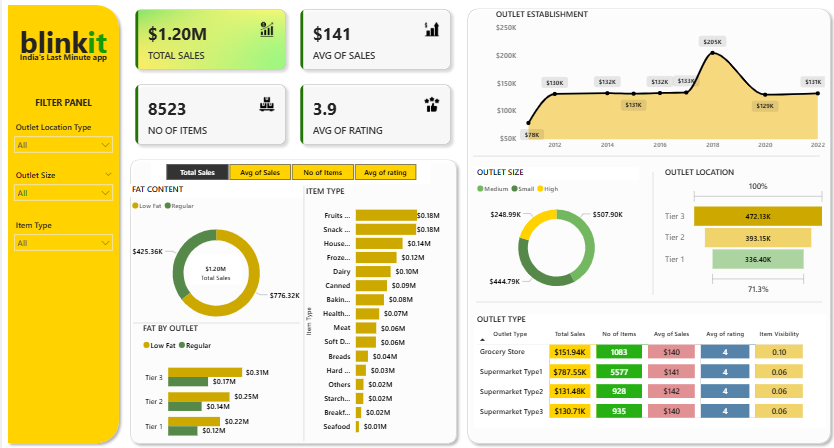

Layout of this report page (visuals, bound fields, positions):
{"tool":"powerbi","page":{"name":"Page 1","canvas":[1400,900],"ordinal":0},"visuals":[{"type":"shape","box":[0,43.2,204.8,750.4],"z":0},{"type":"textbox","box":[20.8,126.4,164.8,28.8],"z":1000},{"type":"textbox","box":[20.8,76.8,164.8,123.2],"z":2000},{"type":"cardVisual","fields":{"Data":["BlinkIT Grocery Data.Total Sales","BlinkIT Grocery Data.Avg of Sales","BlinkIT Grocery Data.No of Items","BlinkIT Grocery Data.Avg of rating"]},"box":[205,43.3,561.7,261.7],"z":3000},{"type":"shape","box":[205,301.7,561.7,491.7],"z":4000},{"type":"donutChart","title":"FAT CONTENT","fields":{"Y":["BlinkIT Grocery Data.Total Sales"],"Category":["BlinkIT Grocery Data.Item Fat Content"]},"box":[212.3,352.3,290.8,252.3],"z":5000},{"type":"slicer","fields":{"Values":["Metrics.Metrics"]},"box":[247.7,312.3,466.2,40],"z":6000},{"type":"cardVisual","fields":{"Data":["BlinkIT Grocery Data.Total Sales"]},"box":[313.8,467.7,86.2,50.8],"z":7000},{"type":"clusteredBarChart","title":"FAT BY OUTLET","fields":{"Y":["BlinkIT Grocery Data.Total Sales"],"Category":["BlinkIT Grocery Data.Outlet Location Type"],"Series":["BlinkIT Grocery Data.Item Fat Content"]},"box":[229.2,583.1,220,210.8],"z":8000},{"type":"shape","box":[218.8,572.5,277.5,20],"z":9000},{"type":"shape","box":[489.2,355.4,26.2,424.6],"z":10000},{"type":"barChart","title":"ITEM TYPE","fields":{"Y":["BlinkIT Grocery Data.Total Sales"],"Category":["BlinkIT Grocery Data.Item Type"]},"box":[501.7,355,233.3,425],"z":11000},{"type":"shape","box":[766.7,50,623.3,743.3],"z":12000},{"type":"lineChart","title":"OUTLET ESTABLISHMENT","fields":{"Category":["BlinkIT Grocery Data.Outlet Establishment Year"],"Y":["BlinkIT Grocery Data.Total Sales"]},"box":[818.3,60,558.3,245],"z":13000},{"type":"shape","box":[785,297.5,577.5,13.8],"z":14000},{"type":"donutChart","title":"OUTLET SIZE","fields":{"Category":["BlinkIT Grocery Data.Outlet Size"],"Y":["BlinkIT Grocery Data.Total Sales"]},"box":[786.7,323.3,275,225],"z":15000},{"type":"shape","box":[1071.7,331.7,26.7,205],"z":16000},{"type":"funnel","title":"OUTLET LOCATION","fields":{"Category":["BlinkIT Grocery Data.Outlet Location Type"],"Y":["Sum(BlinkIT Grocery Data.Sales)"]},"box":[1100,323.3,276.7,218.3],"z":17000},{"type":"shape","box":[790,541.7,576.7,13.3],"z":18000},{"type":"pivotTable","title":"OUTLET TYPE","fields":{"Rows":["BlinkIT Grocery Data.Outlet Type"],"Values":["BlinkIT Grocery Data.Total Sales","BlinkIT Grocery Data.No of Items","BlinkIT Grocery Data.Avg of Sales","BlinkIT Grocery Data.Avg of rating","Avg(BlinkIT Grocery Data.Item Visibility)"]},"box":[786.7,568.3,586.7,190],"z":19000},{"type":"slicer","fields":{"Values":["BlinkIT Grocery Data.Outlet Location Type"]},"box":[10,243.3,185,58.3],"z":20000},{"type":"slicer","fields":{"Values":["BlinkIT Grocery Data.Outlet Size"]},"box":[10,323.3,185,58.3],"z":21000},{"type":"slicer","fields":{"Values":["BlinkIT Grocery Data.Item Type"]},"box":[10,406.7,185,58.3],"z":22000},{"type":"textbox","box":[10,200,185,31.7],"z":23000}]}

Visuals, with their boxes on the page's 1400x900 design canvas (x1, y1, x2, y2). These are canvas units, not pixel positions in the 834x448 screenshot, which may show the page scaled, cropped or inside an application window:
shape: bbox(0, 43, 205, 794)
textbox: bbox(21, 126, 186, 155)
textbox: bbox(21, 77, 186, 200)
cardVisual - BlinkIT Grocery Data.Total Sales x BlinkIT Grocery Data.Avg of Sales: bbox(205, 43, 767, 305)
shape: bbox(205, 302, 767, 793)
"FAT CONTENT" donutChart: bbox(212, 352, 503, 605)
slicer - Metrics.Metrics: bbox(248, 312, 714, 352)
cardVisual - BlinkIT Grocery Data.Total Sales: bbox(314, 468, 400, 518)
"FAT BY OUTLET" clusteredBarChart: bbox(229, 583, 449, 794)
shape: bbox(219, 572, 496, 592)
shape: bbox(489, 355, 515, 780)
"ITEM TYPE" barChart: bbox(502, 355, 735, 780)
shape: bbox(767, 50, 1390, 793)
"OUTLET ESTABLISHMENT" lineChart: bbox(818, 60, 1377, 305)
shape: bbox(785, 298, 1362, 311)
"OUTLET SIZE" donutChart: bbox(787, 323, 1062, 548)
shape: bbox(1072, 332, 1098, 537)
"OUTLET LOCATION" funnel: bbox(1100, 323, 1377, 542)
shape: bbox(790, 542, 1367, 555)
"OUTLET TYPE" pivotTable: bbox(787, 568, 1373, 758)
slicer - BlinkIT Grocery Data.Outlet Location Type: bbox(10, 243, 195, 302)
slicer - BlinkIT Grocery Data.Outlet Size: bbox(10, 323, 195, 382)
slicer - BlinkIT Grocery Data.Item Type: bbox(10, 407, 195, 465)
textbox: bbox(10, 200, 195, 232)
